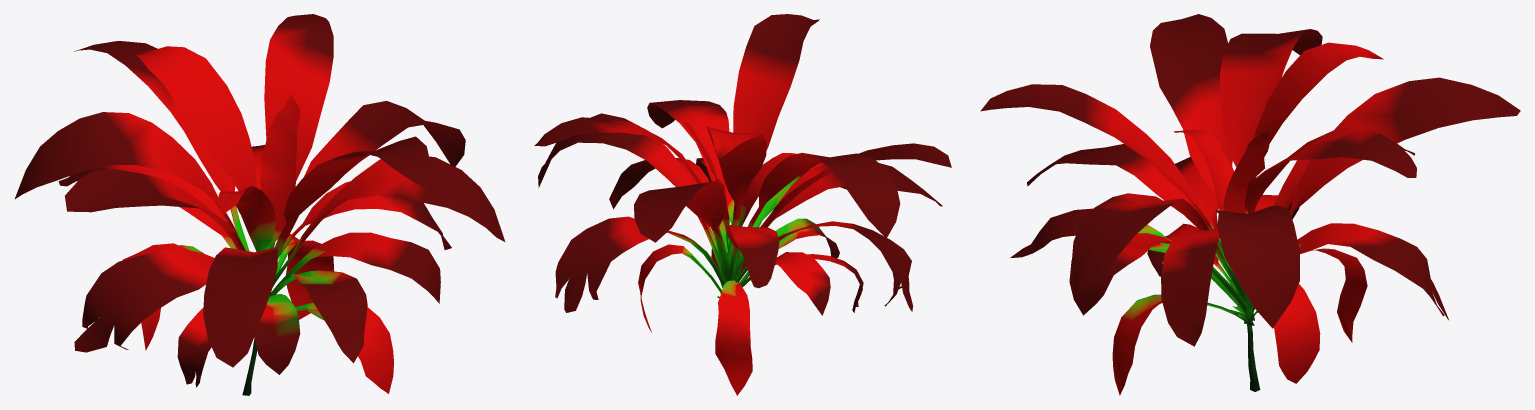
The model's file is Var7_LOD0.fbx.
The picture shows the model from 3 angles, left to right: view 1: azimuth 30°, elevation 25°; view 2: azimuth 150°, elevation 25°; view 3: azimuth 270°, elevation 25°; orthographic projection. The views are drawn at different scales.
Parts seen in each view (by area): view 1: _a575_Var7_LOD0; view 2: _a575_Var7_LOD0; view 3: _a575_Var7_LOD0.
Part boxes in pixels (x1=…): _a575_Var7_LOD0: x1=15, y1=14, x2=505, y2=395; _a575_Var7_LOD0: x1=534, y1=14, x2=951, y2=395; _a575_Var7_LOD0: x1=980, y1=14, x2=1520, y2=395.
Size of the model in its own units: 41.41 by 29 by 44.28.
